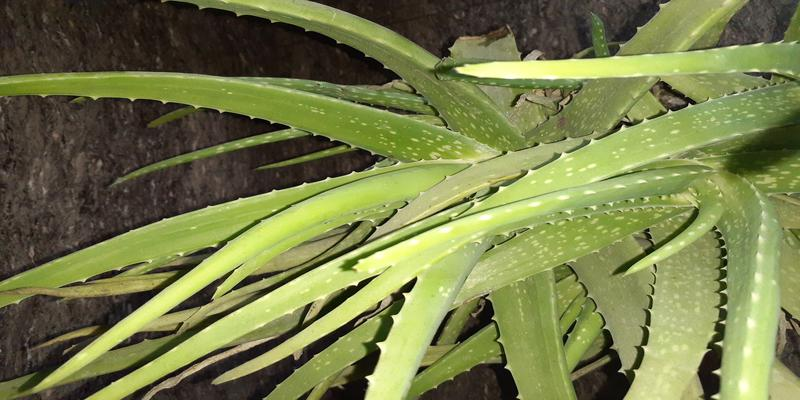Aloevera: (105, 69, 777, 392)
